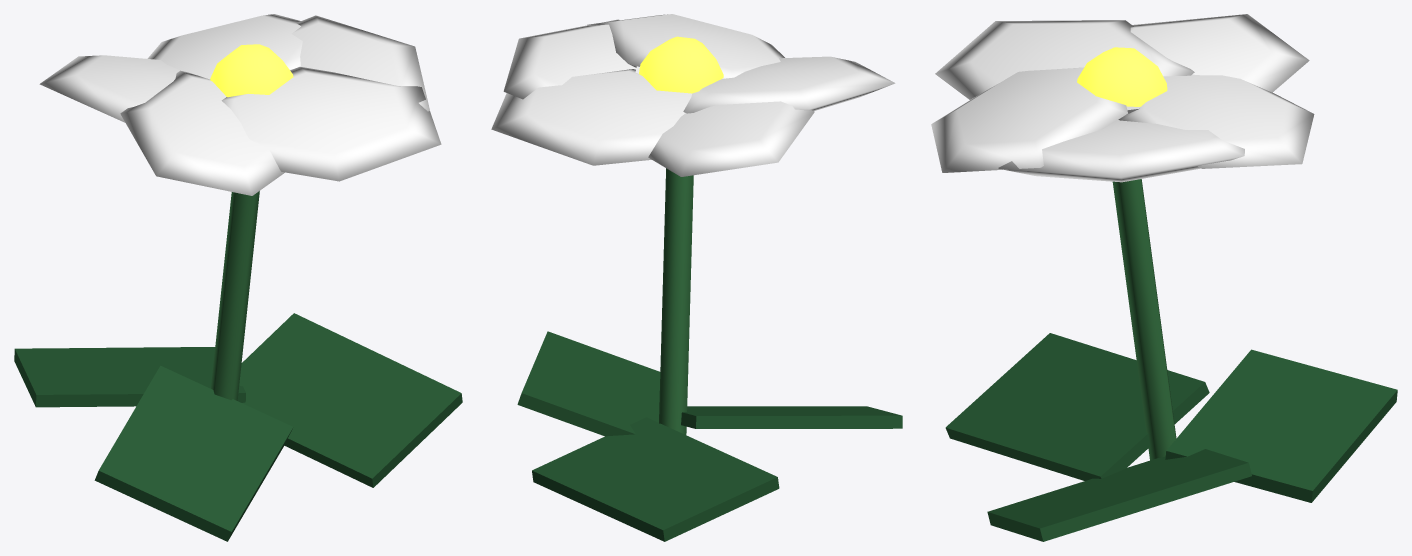
Rendered from flower-single-white.glb.
3 renders of one model, left to right at view 1: azimuth 30°, elevation 25°; view 2: azimuth 150°, elevation 25°; view 3: azimuth 270°, elevation 25°, orthographic. The views are drawn at different scales.
Visible parts, largest first — view 1: SingleFlower_White_darkLeaf, SingleFlower_White_flowerWhite, SingleFlower_White_stemGreen, SingleFlower_White_flowerCenterGold; view 2: SingleFlower_White_flowerWhite, SingleFlower_White_darkLeaf, SingleFlower_White_stemGreen, SingleFlower_White_flowerCenterGold; view 3: SingleFlower_White_darkLeaf, SingleFlower_White_flowerWhite, SingleFlower_White_stemGreen, SingleFlower_White_flowerCenterGold.
Part boxes in pixels (left/top/right/bottom): SingleFlower_White_darkLeaf: left=14, top=313, right=462, bottom=541; SingleFlower_White_flowerWhite: left=39, top=14, right=441, bottom=195; SingleFlower_White_stemGreen: left=211, top=191, right=259, bottom=400; SingleFlower_White_flowerCenterGold: left=210, top=44, right=293, bottom=97; SingleFlower_White_flowerWhite: left=491, top=14, right=895, bottom=176; SingleFlower_White_darkLeaf: left=517, top=331, right=902, bottom=541; SingleFlower_White_stemGreen: left=659, top=168, right=693, bottom=434; SingleFlower_White_flowerCenterGold: left=639, top=36, right=723, bottom=93; SingleFlower_White_darkLeaf: left=945, top=333, right=1397, bottom=541; SingleFlower_White_flowerWhite: left=931, top=14, right=1314, bottom=182; SingleFlower_White_stemGreen: left=1112, top=179, right=1176, bottom=460; SingleFlower_White_flowerCenterGold: left=1077, top=47, right=1167, bottom=106.
Size of the model in its own units: 0.3208 by 0.3468 by 0.3313.
